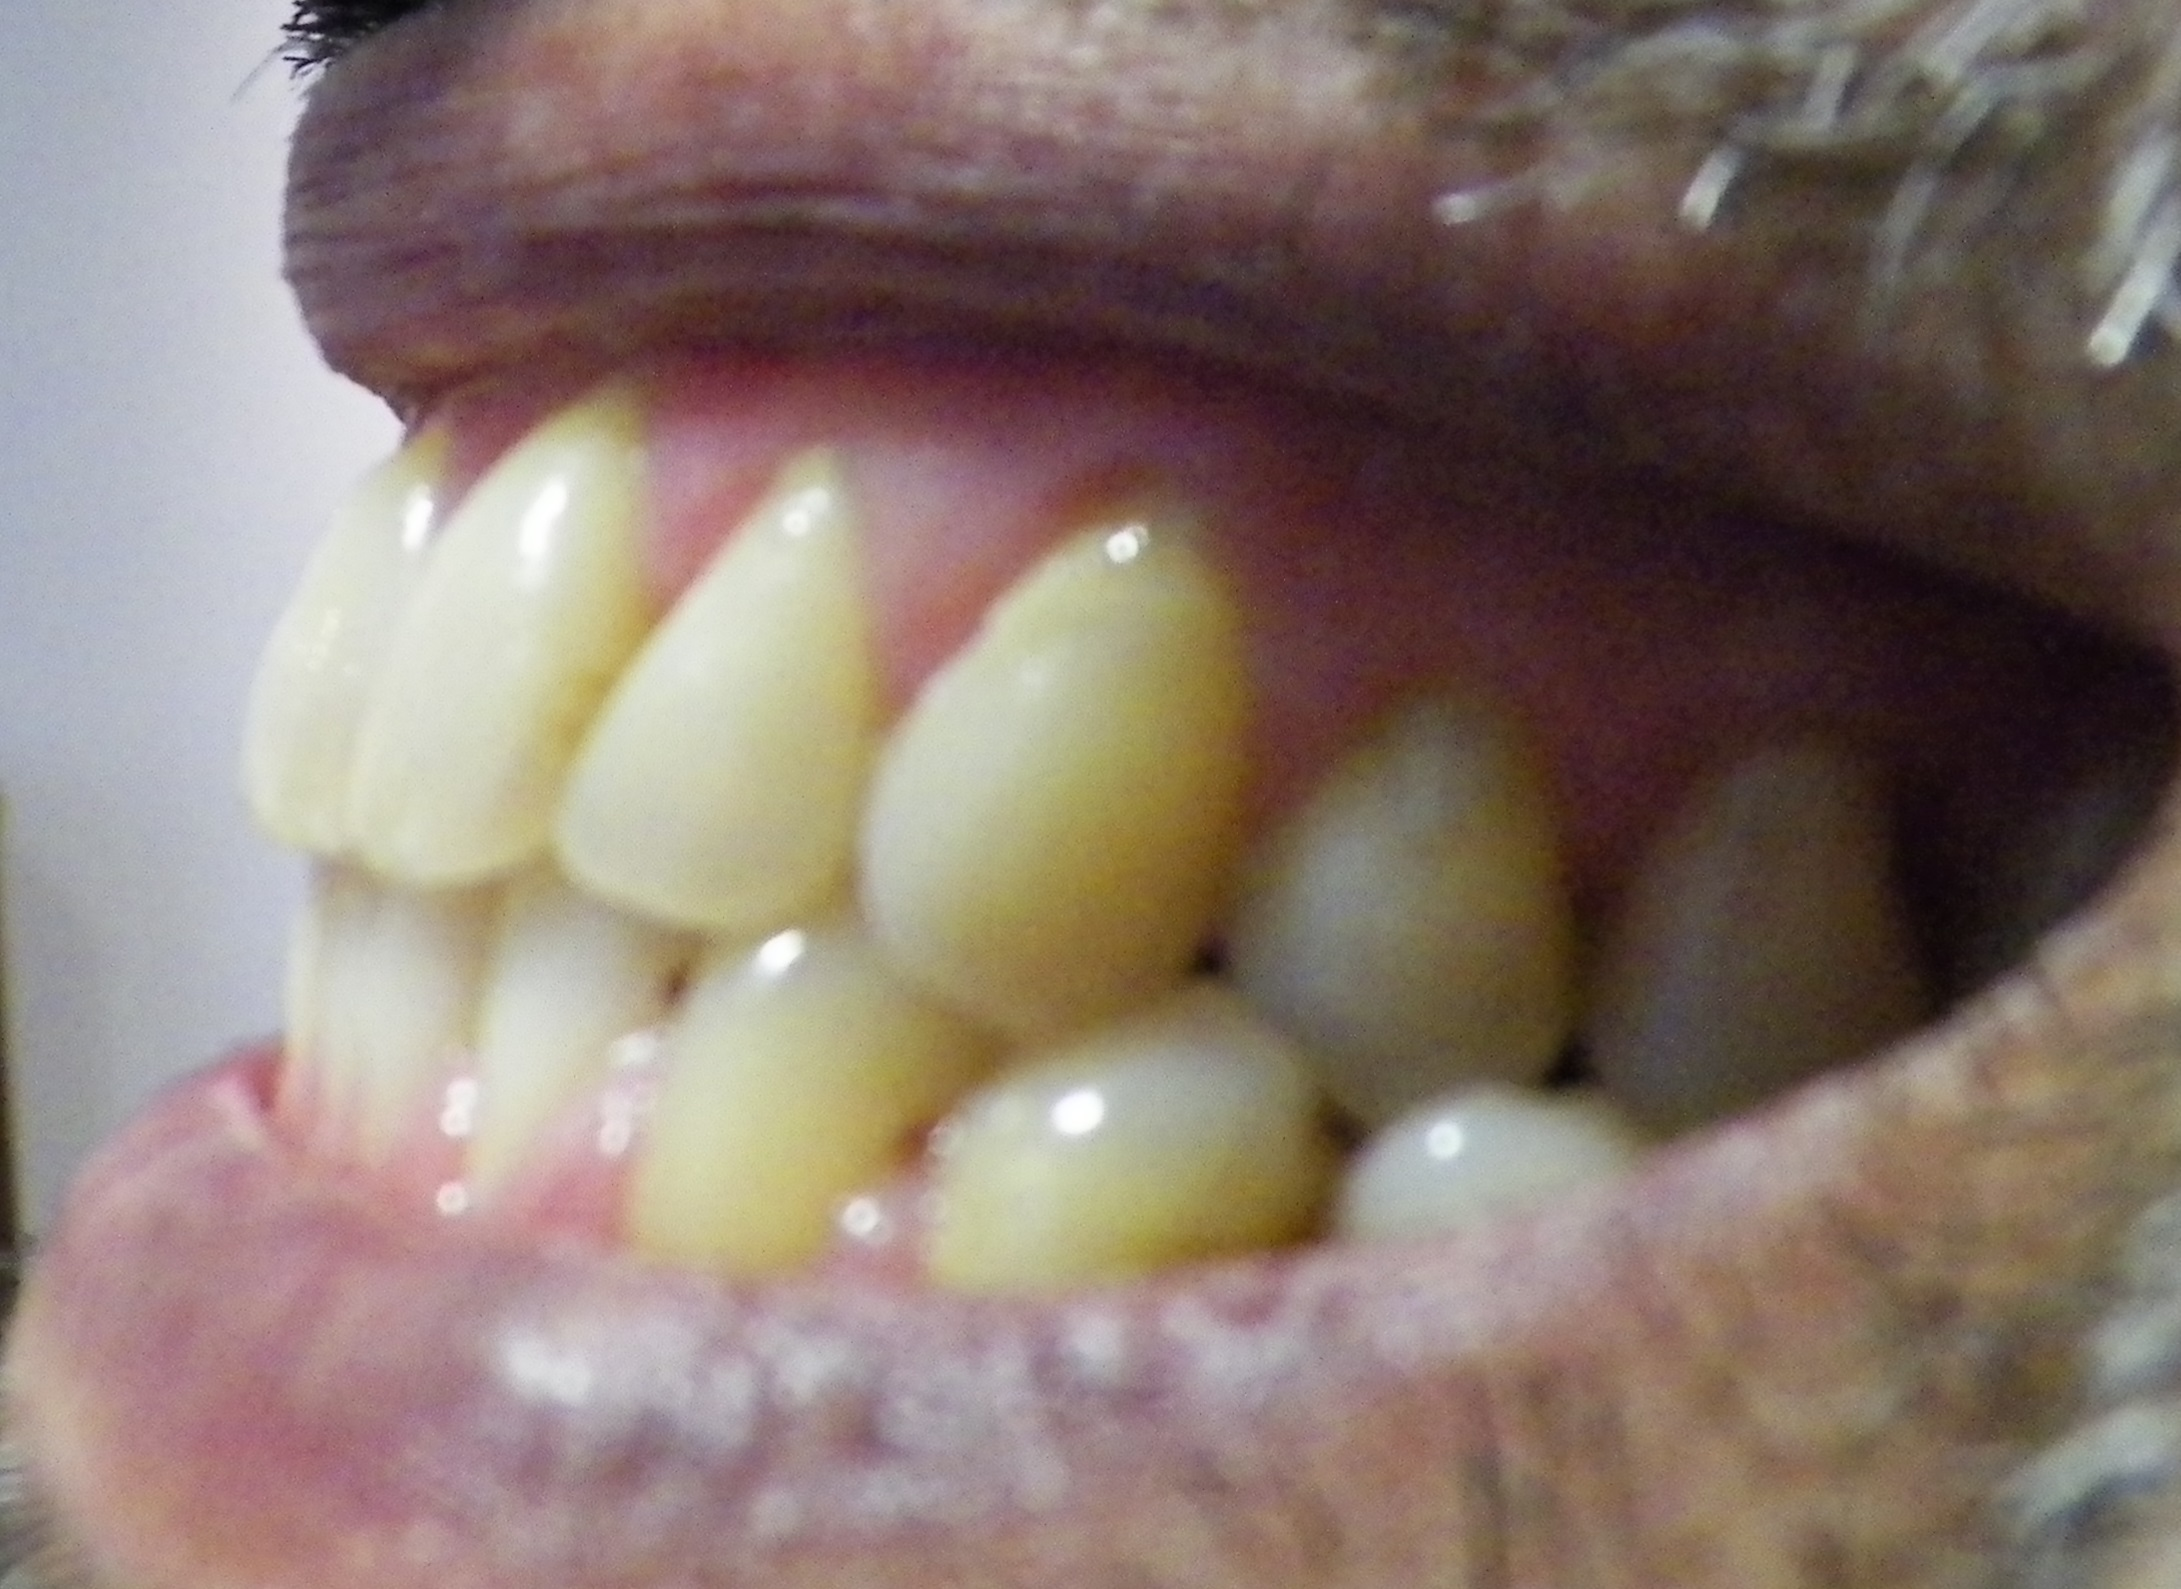boca: (242, 413, 1942, 1259)
